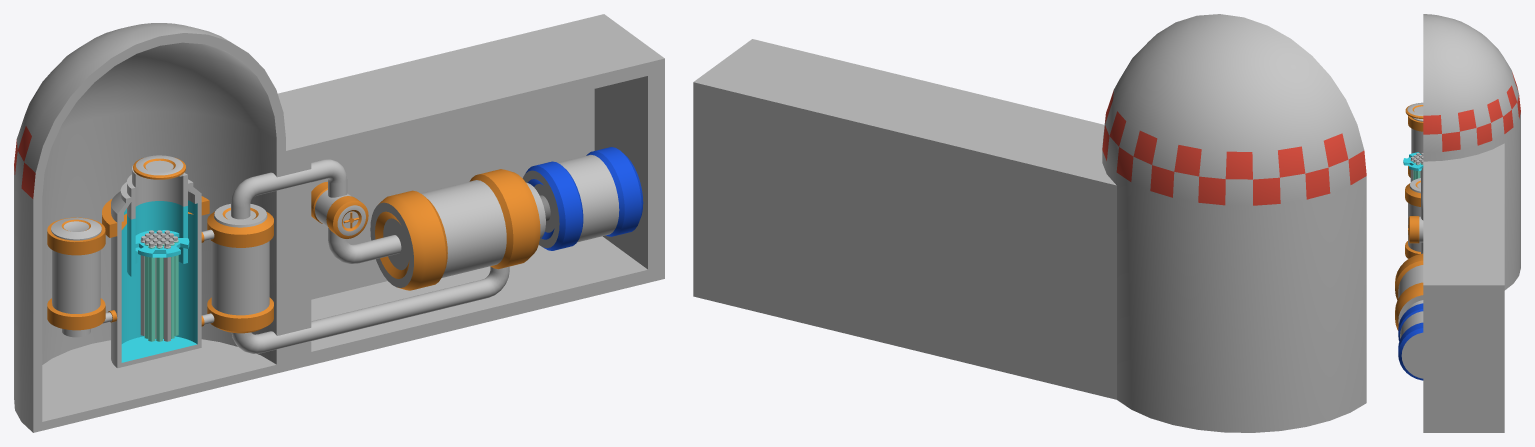
File: reactor.fbx
3 views of the same model, side by side, from view 1: azimuth 30°, elevation 25°; view 2: azimuth 150°, elevation 25°; view 3: azimuth 270°, elevation 25° (orthographic). The views are drawn at different scales.
Visible parts, largest first — view 1: Cube, Containment, Turbine, Reactor, Generator, Heater, Cooler, PipeOutlet, PipeInlet, Pump, RodControls, Cap (+3 smaller); view 2: Cube, Containment; view 3: Cube, Containment, Generator, Turbine, Heater, Cooler, Pump, Cap, Grid, PipeInlet.
Boxes of the visible parts, box(x1,y1,x2,y2) form: Cube: box(278, 14, 664, 371); Containment: box(14, 23, 285, 432); Turbine: box(370, 169, 550, 290); Reactor: box(102, 165, 209, 368); Generator: box(522, 147, 643, 250); Heater: box(201, 204, 273, 333); Cooler: box(47, 217, 117, 337); PipeOutlet: box(231, 266, 509, 353); PipeInlet: box(231, 159, 401, 264); Pump: box(311, 181, 368, 238); RodControls: box(140, 230, 170, 341); Cap: box(133, 155, 185, 179); Cube: box(693, 39, 1116, 399); Containment: box(1102, 14, 1366, 432); Cube: box(1423, 143, 1504, 432); Containment: box(1423, 14, 1520, 290); Generator: box(1398, 303, 1423, 380); Turbine: box(1395, 253, 1423, 330); Heater: box(1405, 178, 1420, 258); Cooler: box(1408, 115, 1423, 177); Pump: box(1408, 216, 1423, 243); Cap: box(1405, 102, 1423, 118); Grid: box(1403, 152, 1423, 171); PipeInlet: box(1421, 167, 1423, 253).
Bounding box in the file's own units: 1500 × 830 × 387.
